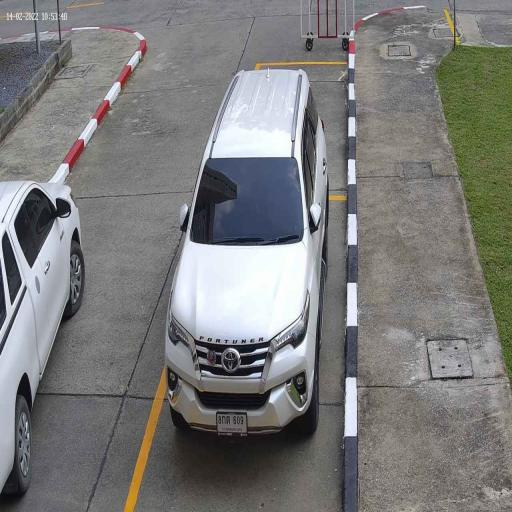car: (162, 64, 330, 444), (0, 179, 87, 503)
